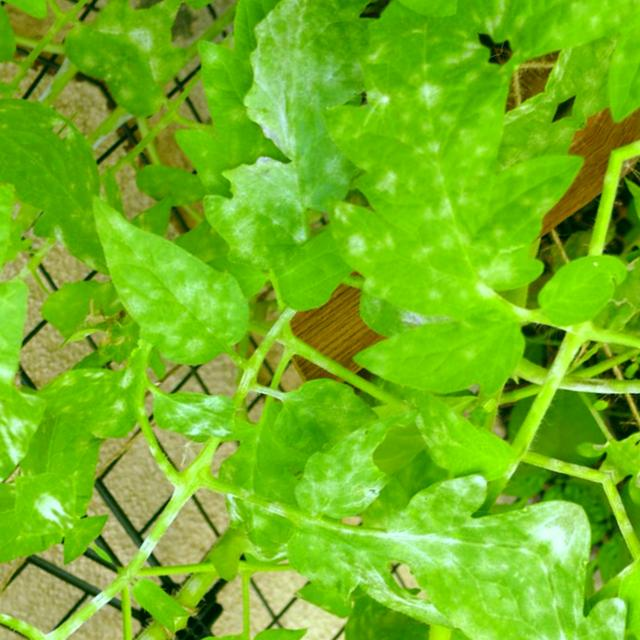Tomato mold leaf: (205, 0, 640, 454), (0, 38, 306, 493), (250, 299, 629, 640), (26, 161, 281, 403), (149, 365, 265, 479), (212, 585, 407, 640)
